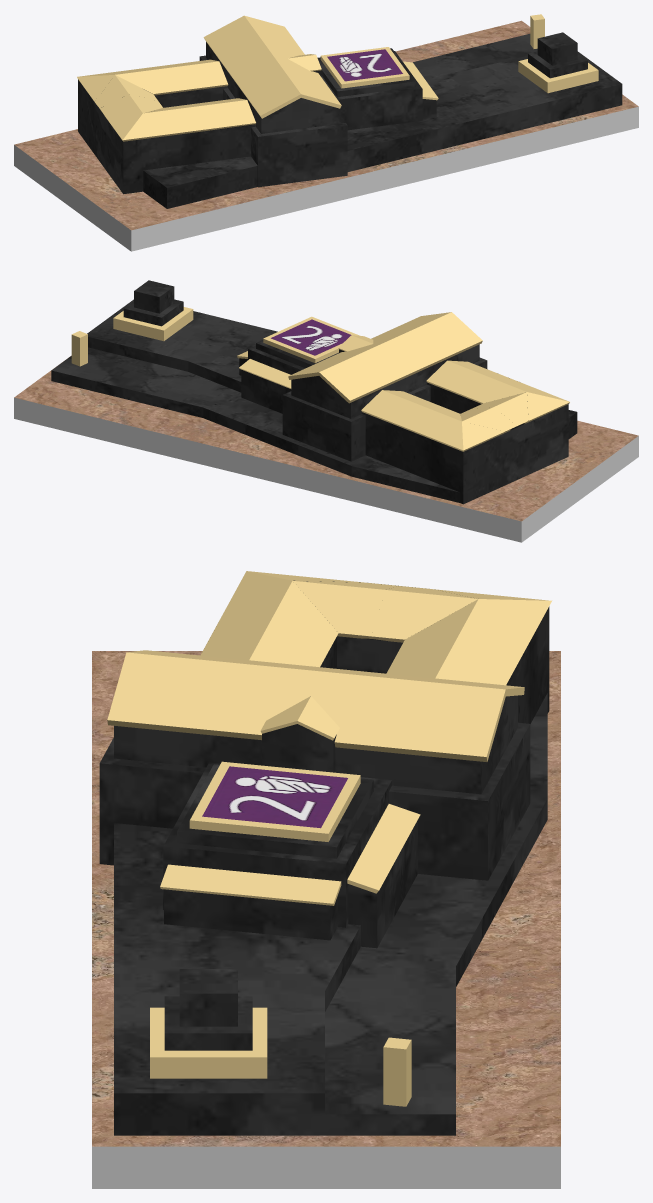
Rendered from buildingDomusMaximaI.glb.
3 renders of one model, top to bottom at view 1: azimuth 30°, elevation 25°; view 2: azimuth 150°, elevation 25°; view 3: azimuth 270°, elevation 25°, orthographic. The views are drawn at different scales.
Visible parts, largest first — view 1: DomusMaxima; view 2: DomusMaxima; view 3: DomusMaxima.
Boxes of the visible parts, x1,y1,x2,y2 form: DomusMaxima: (14, 14, 638, 251); DomusMaxima: (14, 280, 638, 542); DomusMaxima: (92, 571, 560, 1188).
Bounding box in the file's own units: 5 × 1.01 × 2.
Materials: 5 (3 with a texture image).
